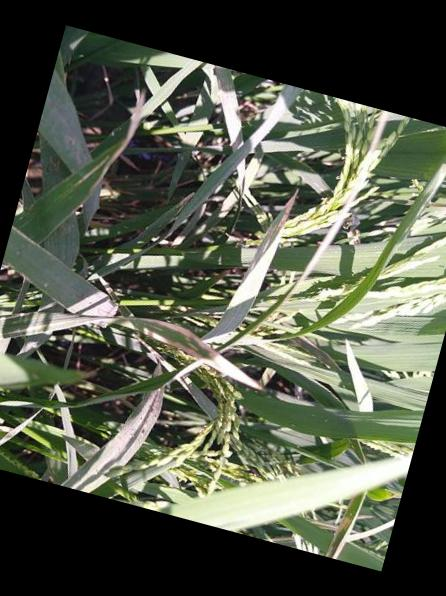Leaf Blight: (20, 312, 260, 390), (199, 187, 295, 340), (31, 108, 141, 217), (57, 388, 163, 491), (2, 223, 116, 316), (211, 64, 240, 144)
